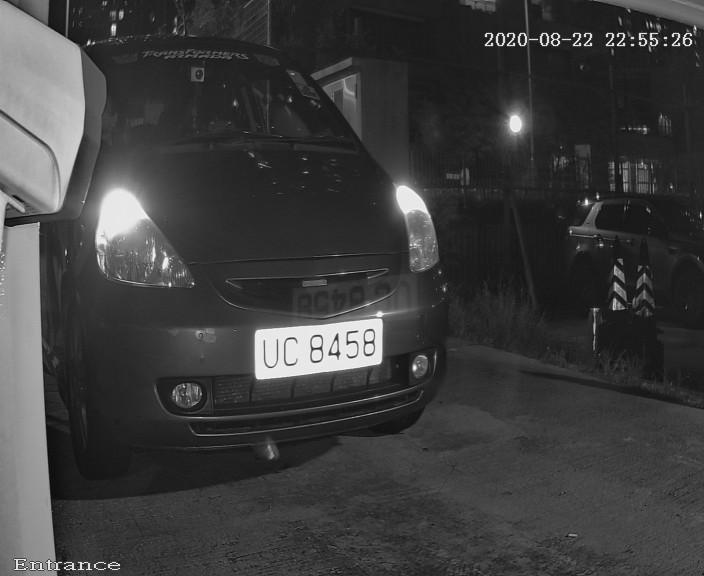Car: (7, 16, 503, 507)
License Plate: (237, 294, 425, 405)
